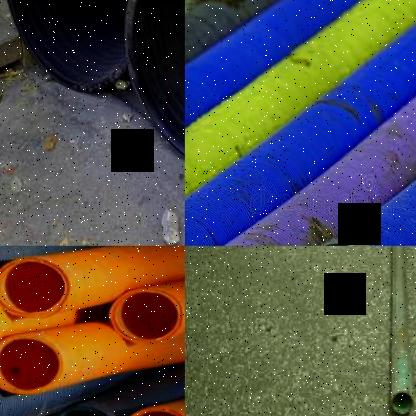pipe: (0, 0, 132, 92), (124, 0, 185, 181), (0, 257, 70, 317), (109, 287, 184, 343), (0, 334, 62, 395), (45, 405, 119, 416), (122, 406, 185, 416), (392, 392, 414, 416)
